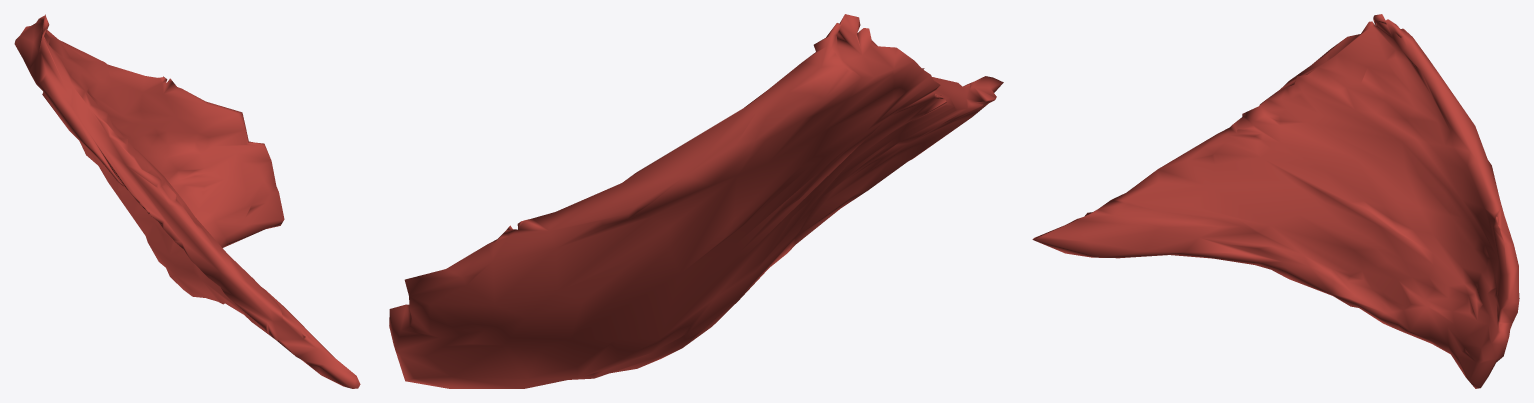
File: musculos-iliococcygeus-muscle-r.glb
3 renders of one model, left to right at view 1: azimuth 30°, elevation 25°; view 2: azimuth 150°, elevation 25°; view 3: azimuth 270°, elevation 25°, orthographic. The views are drawn at different scales.
Parts seen in each view (by area): view 1: Iliococcygeus muscle.r; view 2: Iliococcygeus muscle.r; view 3: Iliococcygeus muscle.r.
Part boxes in pixels (bbox=[...]): Iliococcygeus muscle.r: bbox=[14, 14, 360, 388]; Iliococcygeus muscle.r: bbox=[389, 14, 1003, 388]; Iliococcygeus muscle.r: bbox=[1032, 14, 1519, 388].
Size of the model in its own units: 0.0459 by 0.0447 by 0.0757.
